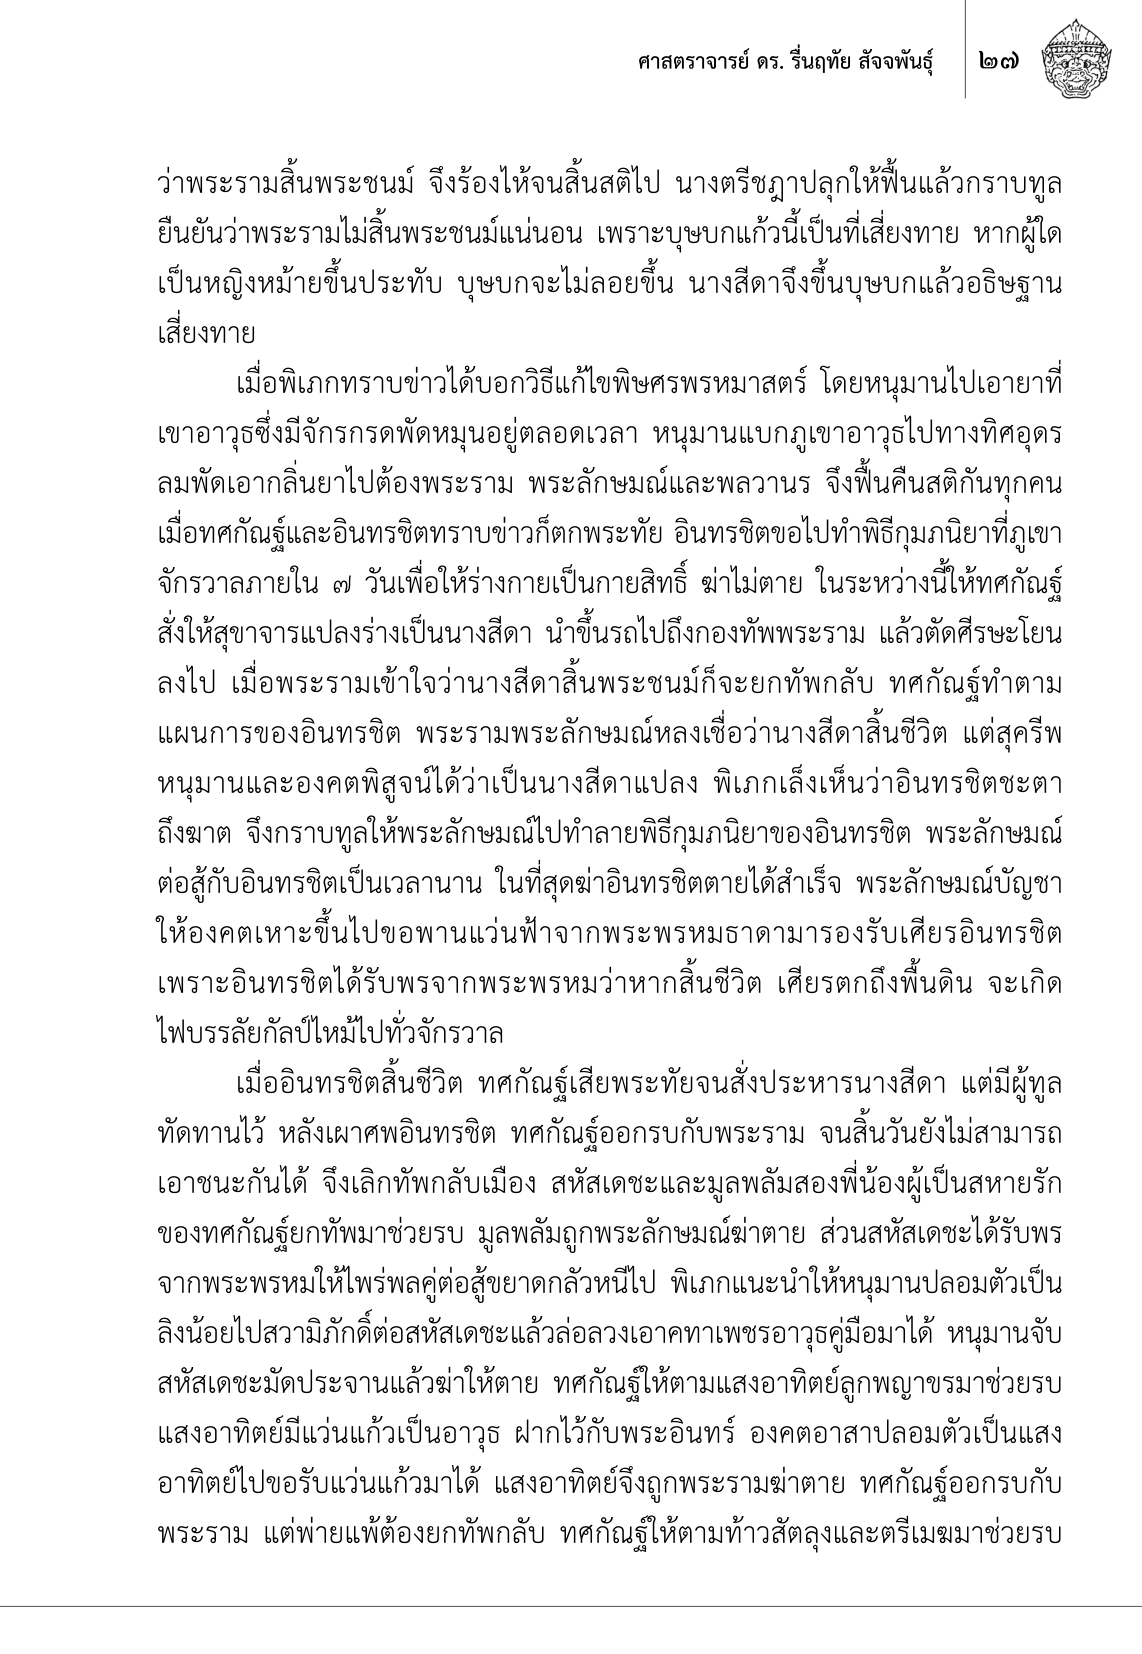thai: (153, 353, 1068, 704), (155, 706, 1068, 1051), (155, 1261, 1064, 1561), (150, 143, 1070, 346), (155, 1054, 1067, 1258), (634, 33, 941, 90), (974, 41, 1021, 80)
